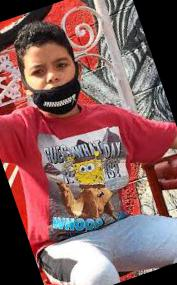mask_weared_incorrect: (17, 48, 87, 114)
